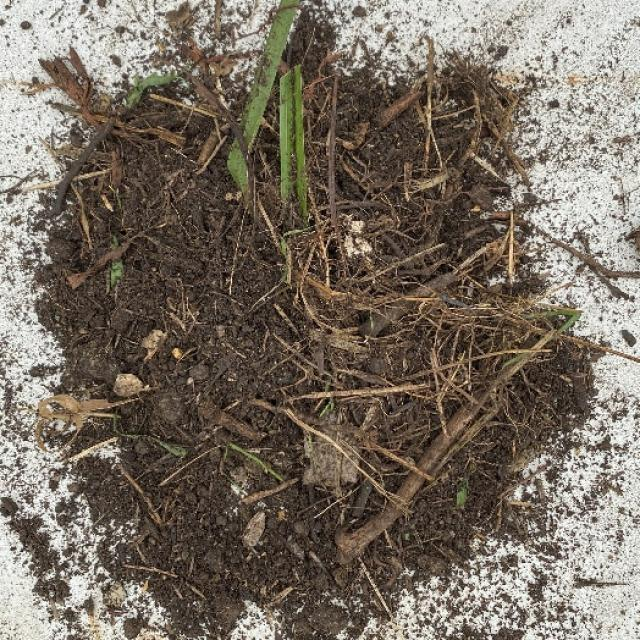organik: (224, 25, 566, 536)
